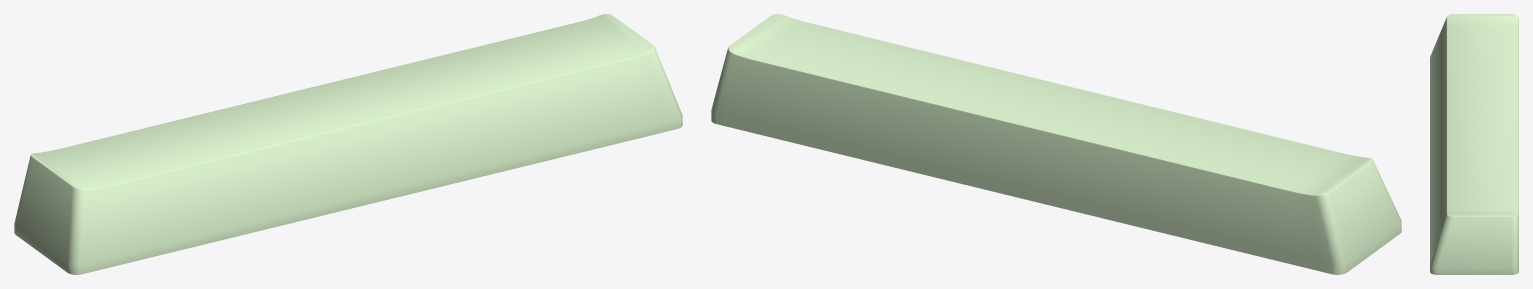
Rendered from space.glb.
The picture shows the model from 3 angles, left to right: view 1: azimuth 30°, elevation 25°; view 2: azimuth 150°, elevation 25°; view 3: azimuth 270°, elevation 25°; orthographic projection. The views are drawn at different scales.
Visible parts, largest first — view 1: keycap_space.002; view 2: keycap_space.002; view 3: keycap_space.002.
Part boxes in pixels (<box>): keycap_space.002: <box>14,14,682,274</box>; keycap_space.002: <box>711,14,1401,274</box>; keycap_space.002: <box>1430,14,1518,274</box>.
Size of the model in its own units: 0.1026 by 0.0118 by 0.018.
